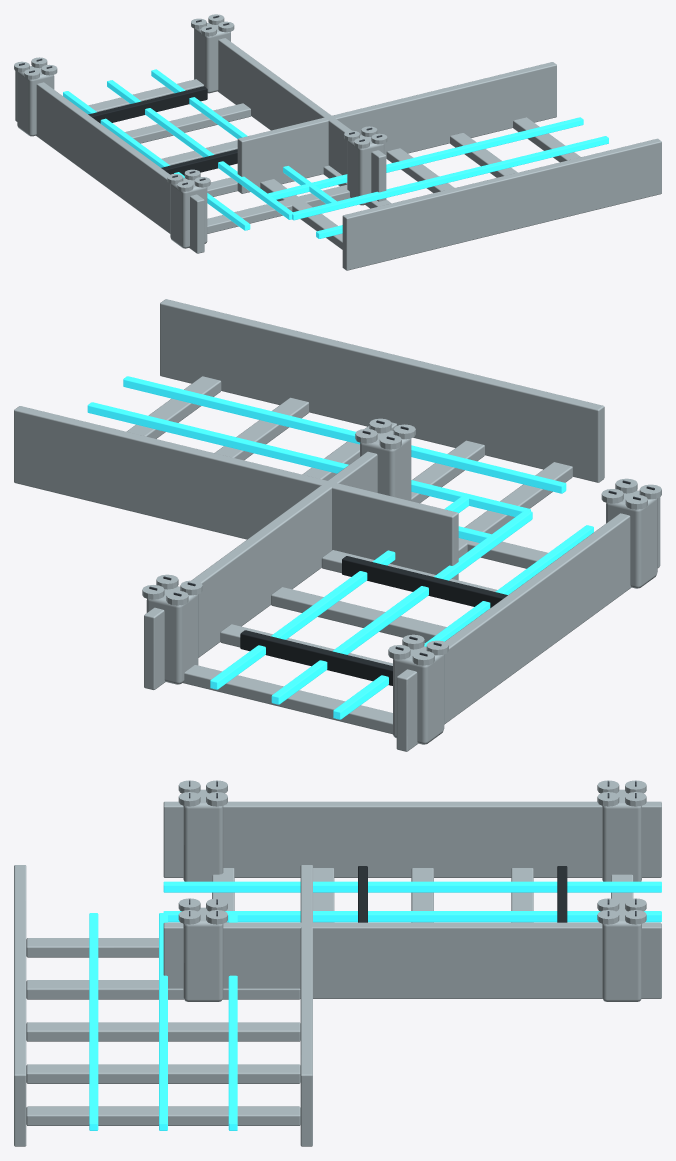
File: data-centre-infiltration-kit-data-centre-infiltration--b3eb4aaf__29267.glb
3 renders of one model, top to bottom at view 1: azimuth 30°, elevation 25°; view 2: azimuth 150°, elevation 25°; view 3: azimuth 270°, elevation 25°, orthographic. The views are drawn at different scales.
Parts seen in each view (by area): view 1: data-centre-infiltration-kit-cable-corner; view 2: data-centre-infiltration-kit-cable-corner; view 3: data-centre-infiltration-kit-cable-corner.
Part boxes in pixels (<box>): data-centre-infiltration-kit-cable-corner: <box>14,14,661,270</box>; data-centre-infiltration-kit-cable-corner: <box>14,299,661,751</box>; data-centre-infiltration-kit-cable-corner: <box>14,780,661,1146</box>.
Size of the model in its own units: 1.33 by 0.196 by 1.3.
